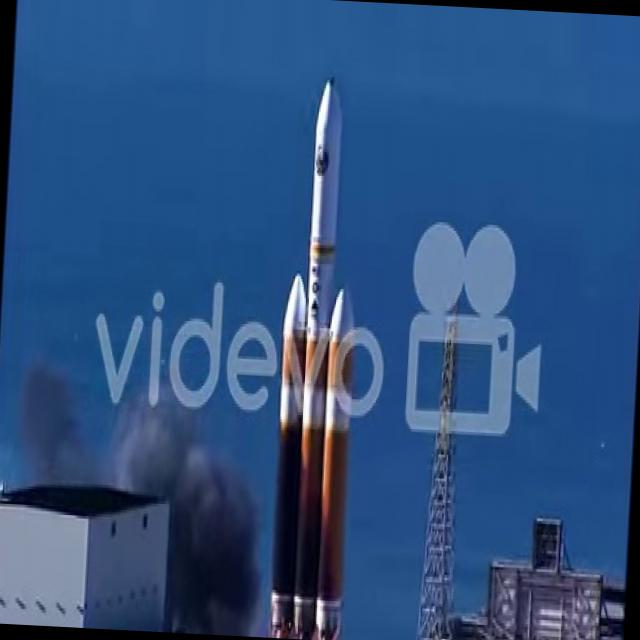rocket: (267, 76, 367, 640)
